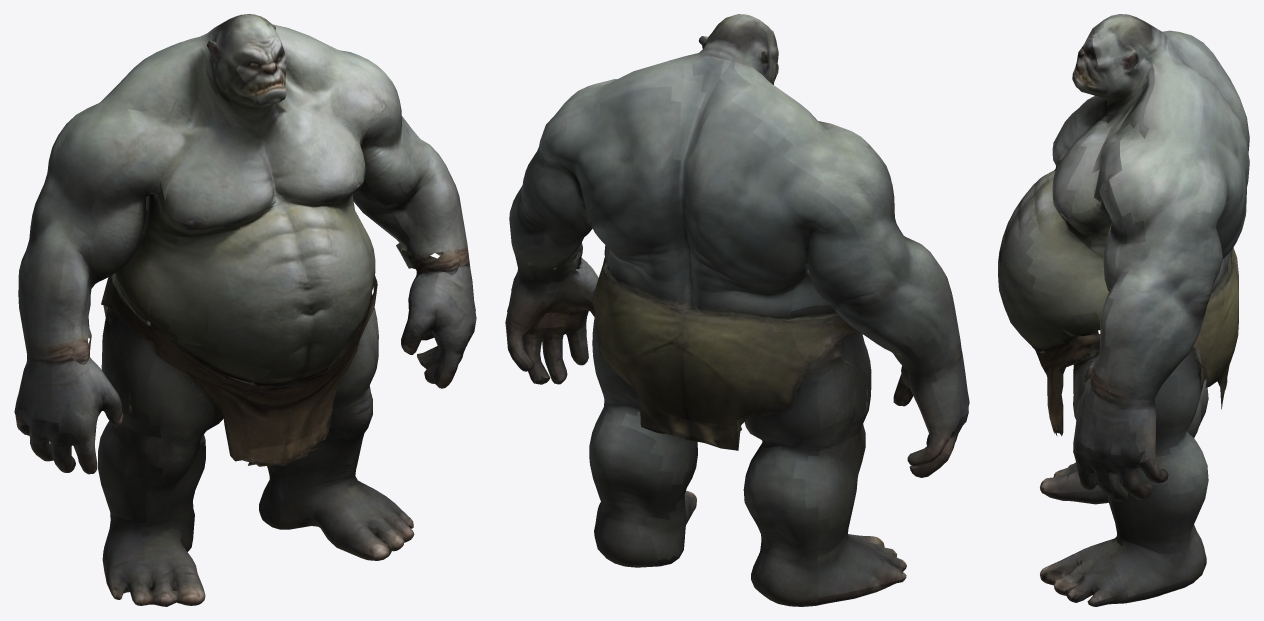
File: mf_brute.glb
The picture shows the model from 3 angles, left to right: view 1: azimuth 30°, elevation 25°; view 2: azimuth 150°, elevation 25°; view 3: azimuth 270°, elevation 25°; orthographic projection. The views are drawn at different scales.
Visible parts, largest first — view 1: Model; view 2: Model; view 3: Model.
Boxes of the visible parts, <box> form: Model: <box>14,14,476,606</box>; Model: <box>505,14,969,606</box>; Model: <box>998,14,1249,606</box>.
Size of the model in its own units: 1.47 by 1.7 by 0.7381.
Materials: 1 (1 with a texture image).
